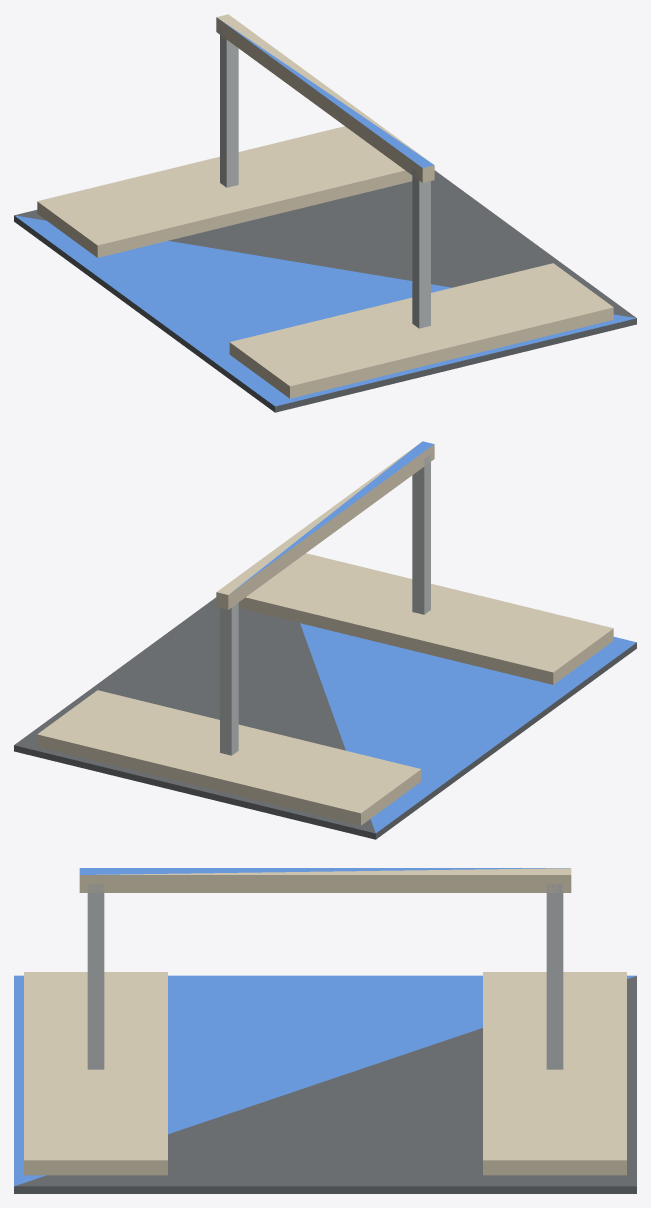
The model's file is meridian_shipyard.glb.
The picture shows the model from 3 angles, top to bottom: view 1: azimuth 30°, elevation 25°; view 2: azimuth 150°, elevation 25°; view 3: azimuth 270°, elevation 25°; orthographic projection. The views are drawn at different scales.
Visible parts, largest first — view 1: hull, crane; view 2: hull, crane; view 3: hull, crane.
Part boxes in pixels (<box>): hull: <box>14,126,636,412</box>; crane: <box>216,14,434,328</box>; hull: <box>14,553,636,839</box>; crane: <box>216,441,434,755</box>; hull: <box>14,972,636,1193</box>; crane: <box>79,868,571,1069</box>.
Size of the model in its own units: 15.2 by 7.3 by 19.
